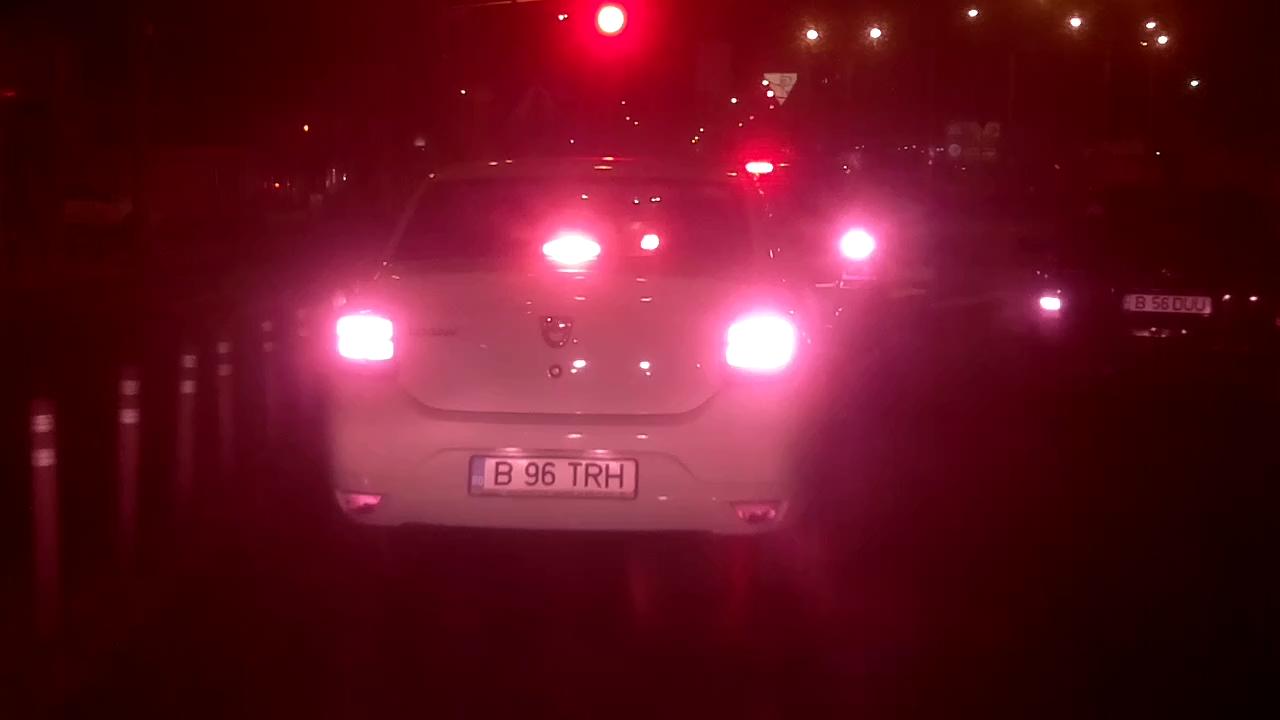license-plate: (465, 451, 644, 501), (1120, 288, 1215, 317)
